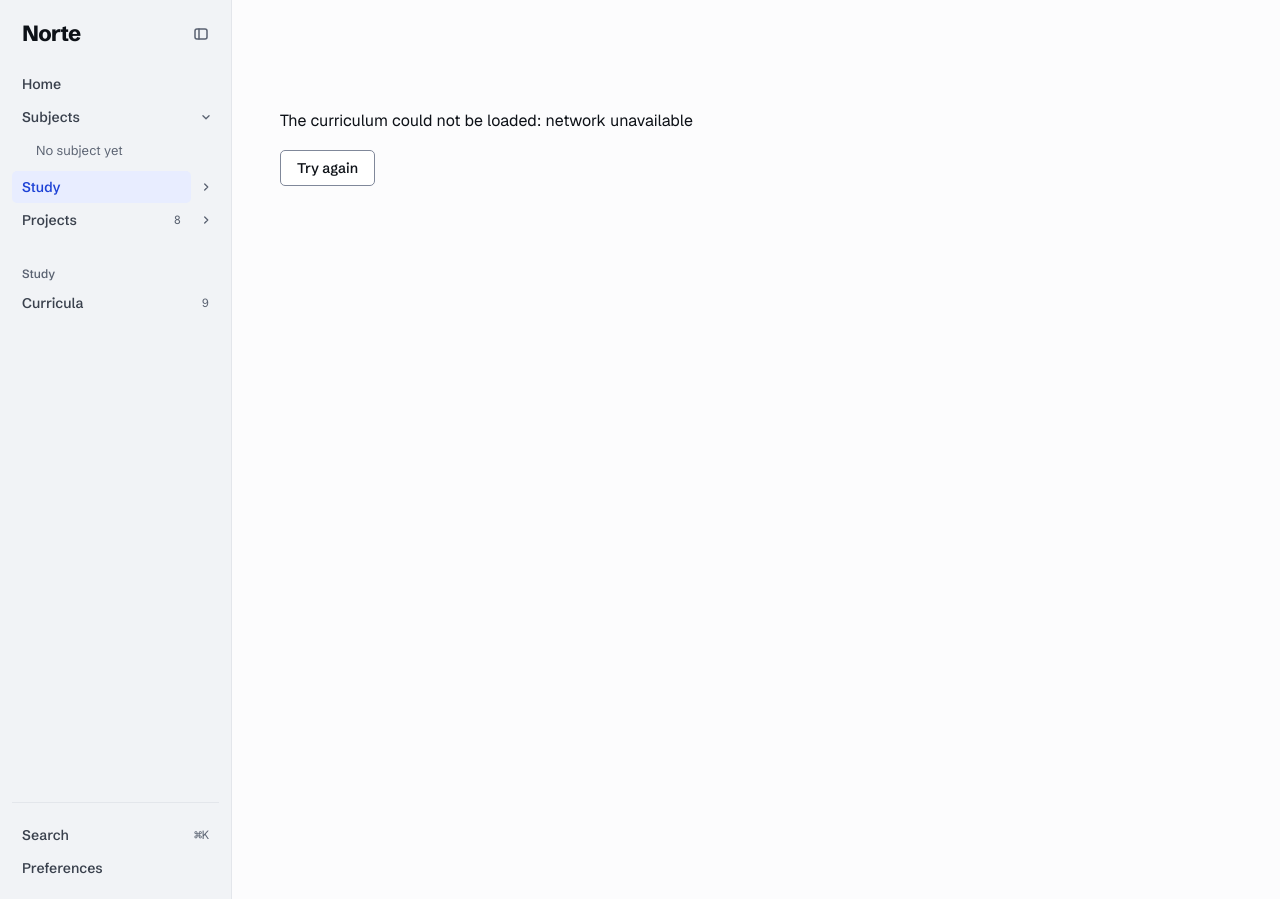
Test case: curriculum screen › says why the curriculum could not be read, and reads again when asked
The image size is (1280, 899).
Check: the message "The curriculum could not be loaded: network unavailable Try again" is shown, box x1=280 y1=110 x2=693 y2=186
Click the button "Try again": click(328, 168) x1=280 y1=150 x2=375 y2=186
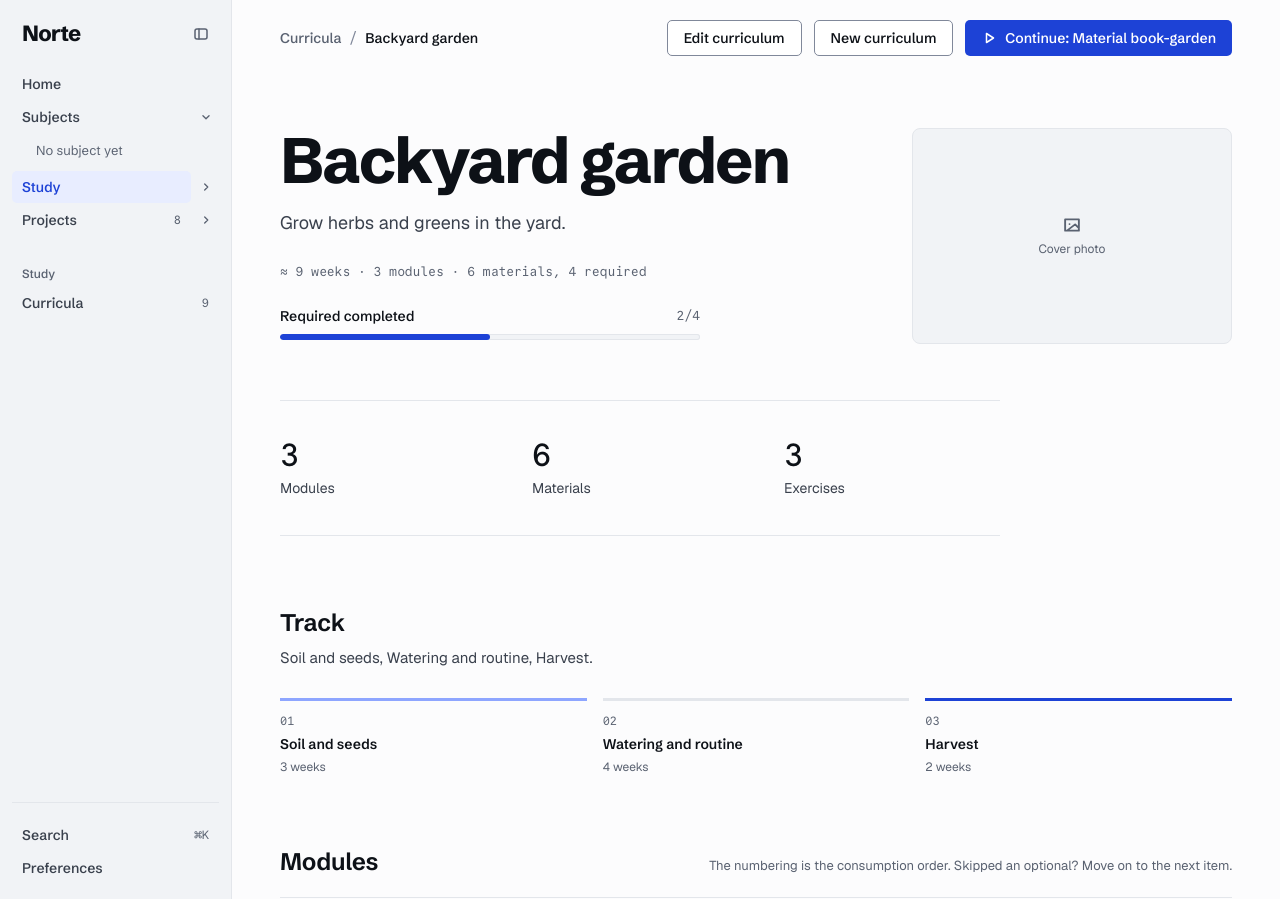
Check: the heading "Backyard garden" is shown, box x1=280 y1=128 x2=864 y2=192
